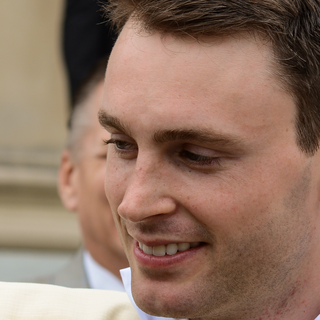eye: (161, 134, 230, 173), (102, 134, 144, 159)
